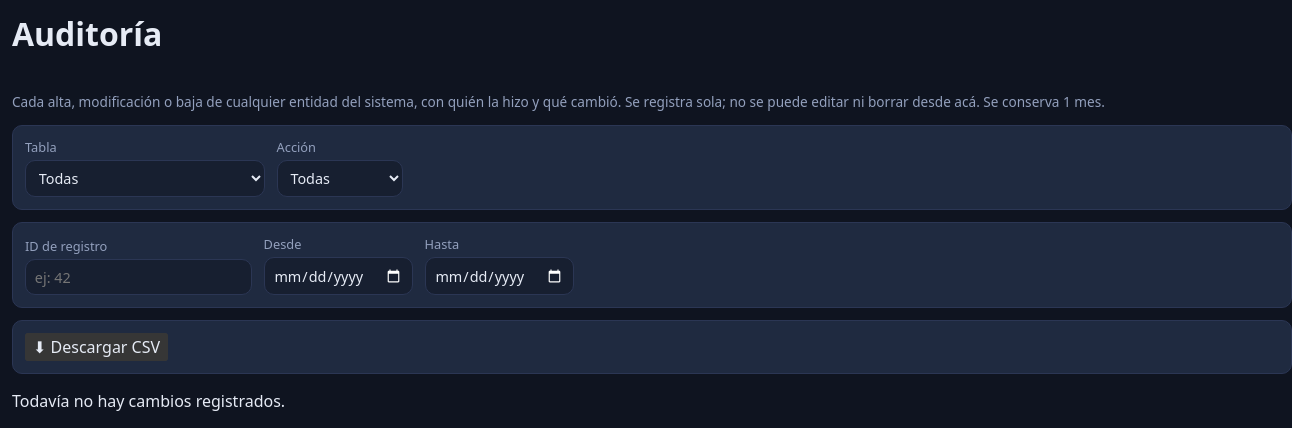
Test: AuditoriaAdminPage › el vacío filtrado no dice lo mismo que el vacío real
This screenshot has width=1292, height=428.
expect the text "Todavía no hay cambios registrados." is shown: met, box [12,390,285,412]
Select "torneo" in the dropdown labelled "Tabla": (145, 179) [25,160,265,197]
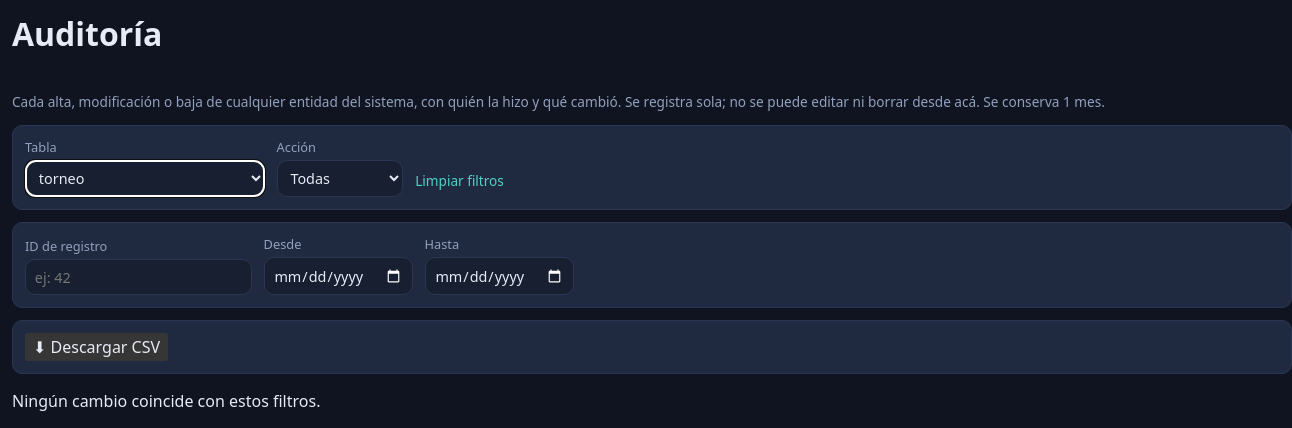
expect the text "Ningún cambio coincide con estos filtros." is shown: met, box [12,390,320,412]
